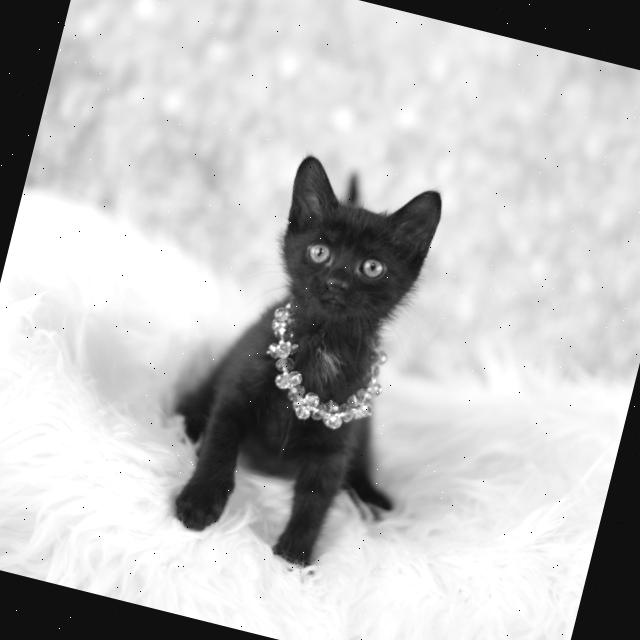bombay_cat: (240, 136, 470, 362)
